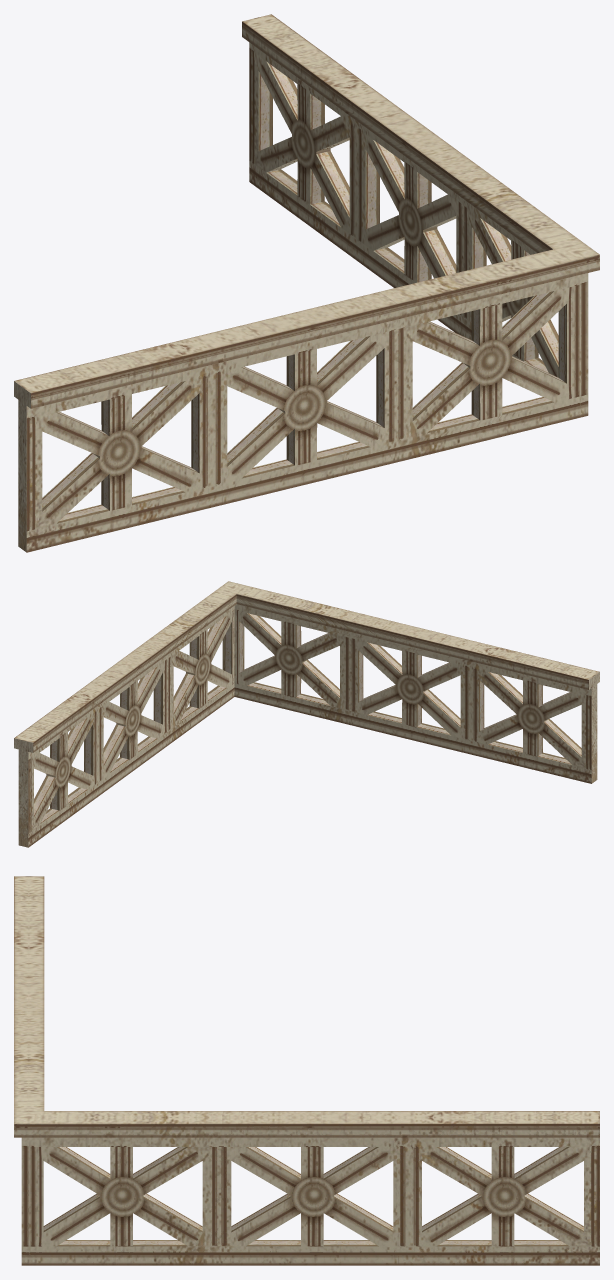
The model's file is svspartarail8.dae.
3 views of the same model, one above another, from view 1: azimuth 30°, elevation 25°; view 2: azimuth 150°, elevation 25°; view 3: azimuth 270°, elevation 25° (orthographic). The views are drawn at different scales.
Parts seen in each view (by area): view 1: unnamed_object6_copy57-0; view 2: unnamed_object6_copy57-0; view 3: unnamed_object6_copy57-0.
Boxes of the visible parts, bbox=[...] form: unnamed_object6_copy57-0: bbox=[14, 14, 599, 552]; unnamed_object6_copy57-0: bbox=[14, 581, 599, 847]; unnamed_object6_copy57-0: bbox=[14, 876, 599, 1265].
Size of the model in its own units: 289 by 78.75 by 289.
